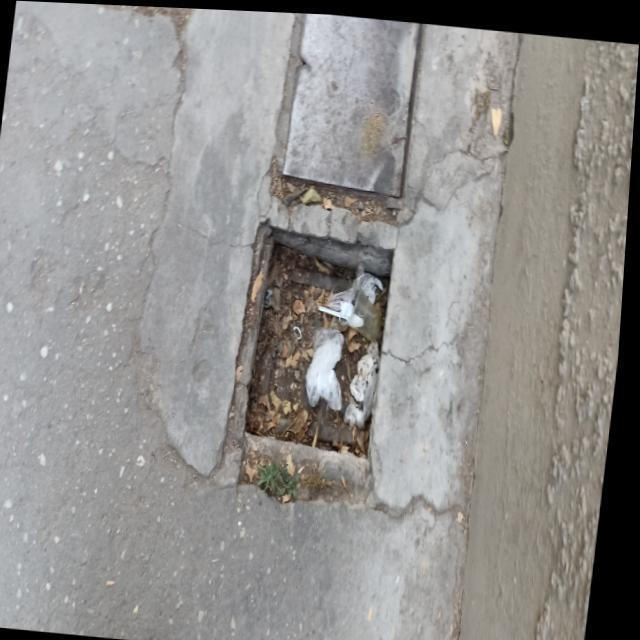hole: (223, 220, 402, 477)
